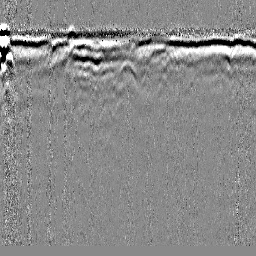cavity: (117, 59, 138, 82)
